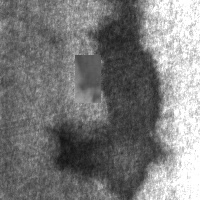patches: (86, 1, 164, 192), (46, 120, 105, 179), (75, 55, 101, 103)
